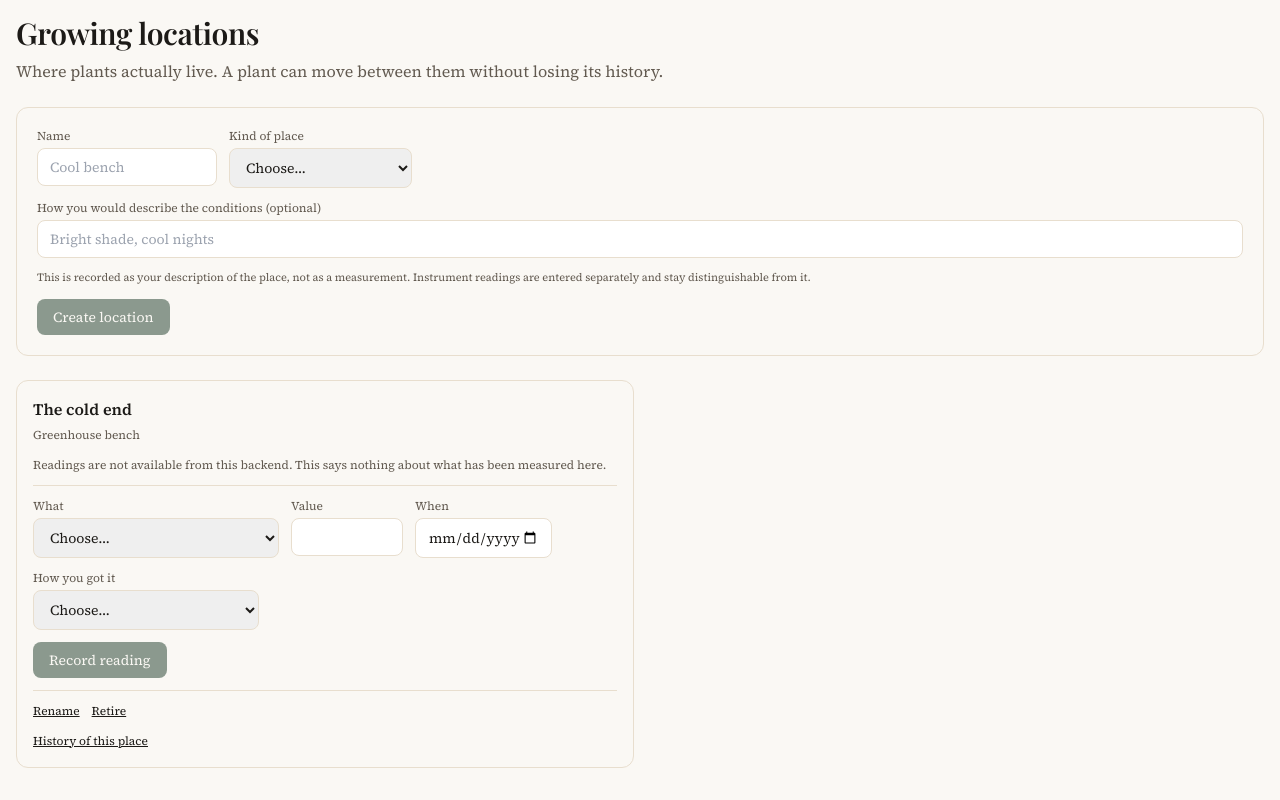
Scenario: MyConservatory location history › shows a rename as a rename, with both names
The image size is (1280, 800).
(page scrolled)
Step 1. Click the button "History of this place" → (90, 740), box [33,732,148,748]
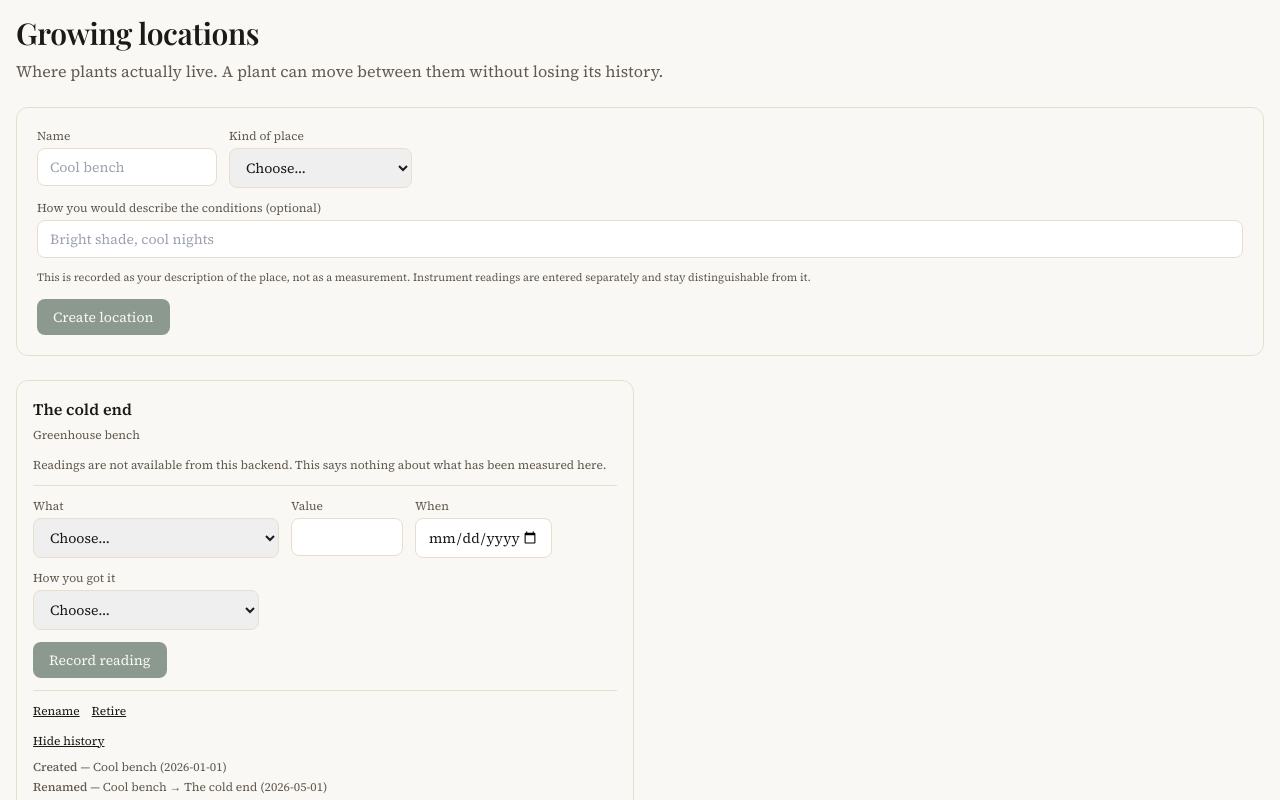
expect the list item with test id "history-entry-renamed" shows "Cool bench": met, box [87,778,257,794]
expect the list item with test id "history-entry-renamed" shows "The cold end": met, box [87,778,257,794]
expect the list item with test id "history-entry-renamed" shows "Renamed": met, box [33,778,87,794]
